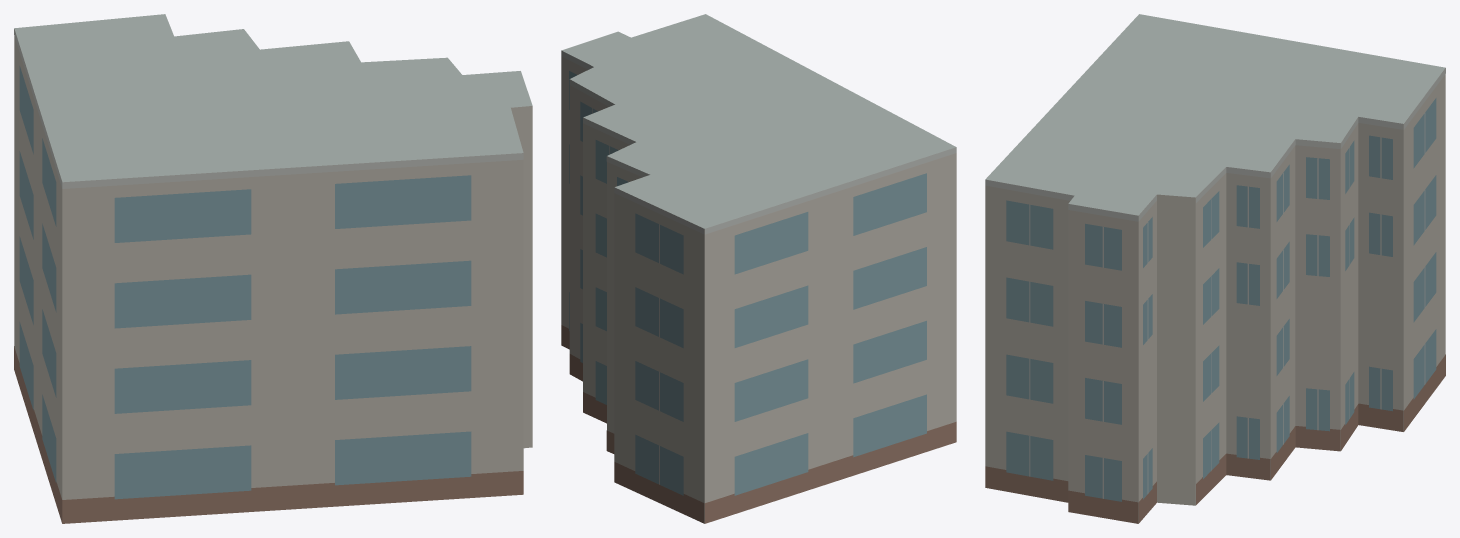
Rendered from survey-upis-32666812.glb.
The picture shows the model from 3 angles, left to right: view 1: azimuth 30°, elevation 25°; view 2: azimuth 150°, elevation 25°; view 3: azimuth 270°, elevation 25°; orthographic projection. The views are drawn at different scales.
Visible parts, largest first — view 1: survey-upis-32666812.tmp; view 2: survey-upis-32666812.tmp; view 3: survey-upis-32666812.tmp.
Boxes of the visible parts, box(x1,y1,x2,y2) form: survey-upis-32666812.tmp: box(14, 14, 532, 523); survey-upis-32666812.tmp: box(561, 14, 956, 523); survey-upis-32666812.tmp: box(985, 14, 1445, 523).
Bounding box in the file's own units: 17.41 × 12.4 × 16.8.
